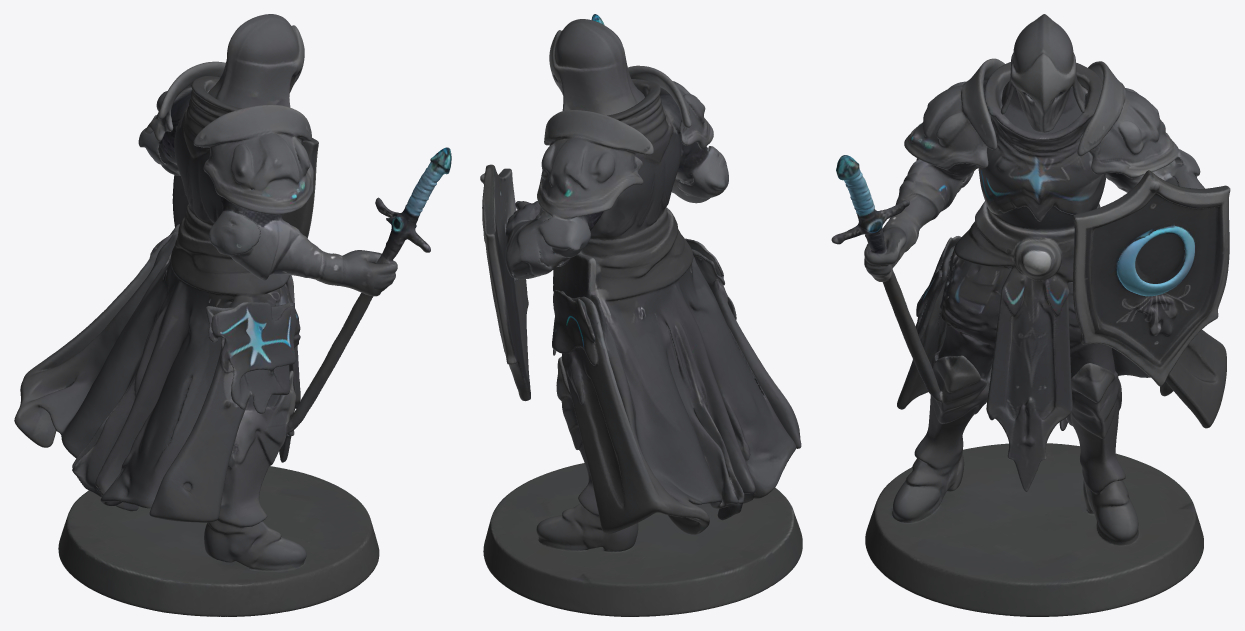
3 views of the same model, side by side, from view 1: azimuth 30°, elevation 25°; view 2: azimuth 150°, elevation 25°; view 3: azimuth 270°, elevation 25° (orthographic). The views are drawn at different scales.
Parts seen in each view (by area): view 1: tripo_node_923c582f-a8d6-42fd-b16c-a1f83be24899; view 2: tripo_node_923c582f-a8d6-42fd-b16c-a1f83be24899; view 3: tripo_node_923c582f-a8d6-42fd-b16c-a1f83be24899.
Boxes of the visible parts, bbox=[...] form: tripo_node_923c582f-a8d6-42fd-b16c-a1f83be24899: bbox=[14, 14, 451, 616]; tripo_node_923c582f-a8d6-42fd-b16c-a1f83be24899: bbox=[480, 14, 802, 616]; tripo_node_923c582f-a8d6-42fd-b16c-a1f83be24899: bbox=[831, 14, 1230, 616].
Bounding box in the file's own units: 0.5563 × 1 × 0.655.
1 material, 1 textured.
